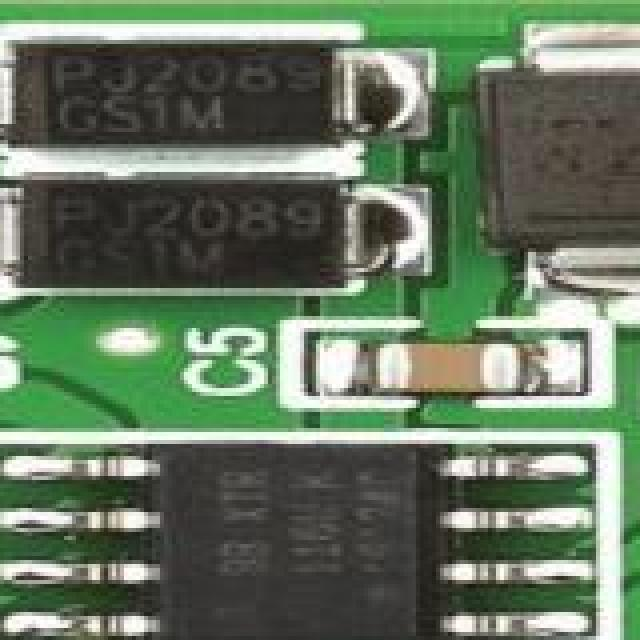IC: (36, 452, 576, 634)
capacitor: (344, 332, 566, 396)
diode: (0, 184, 416, 296), (0, 40, 382, 144), (480, 48, 640, 280)
